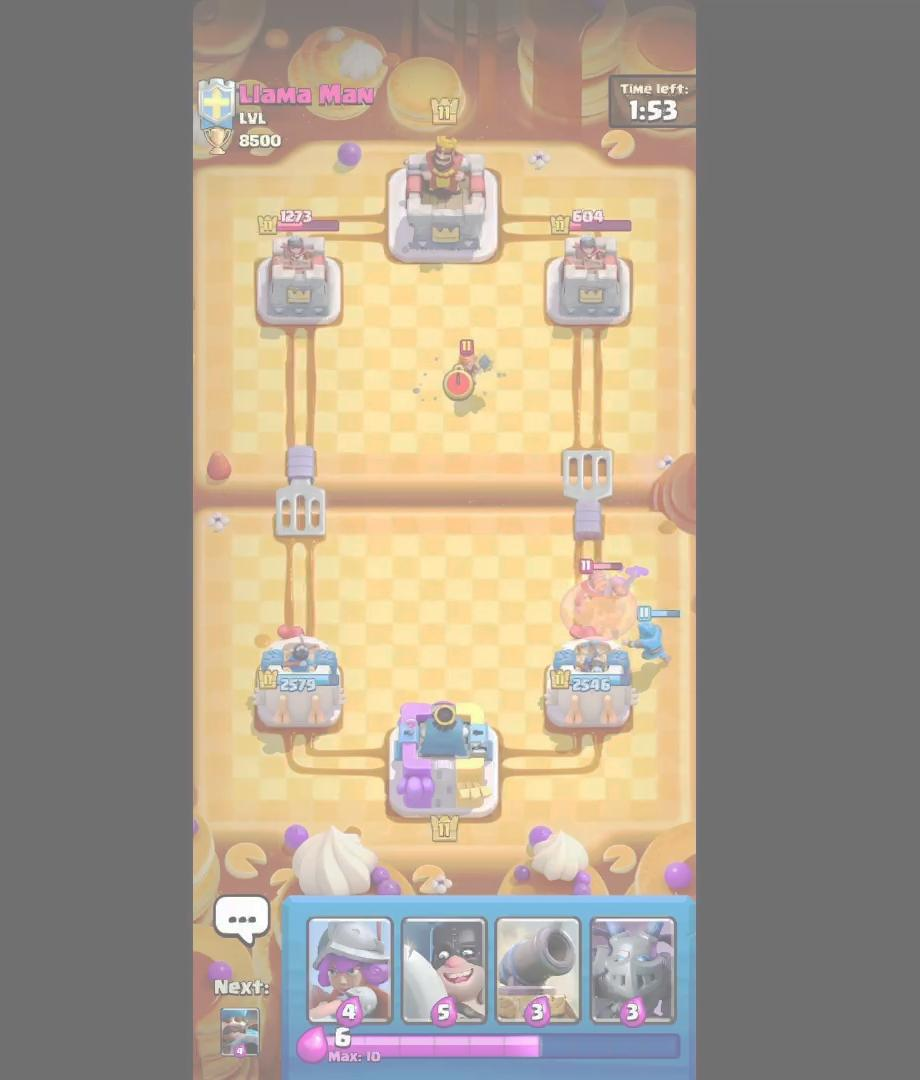Valkyrie: (440, 333, 501, 408)
